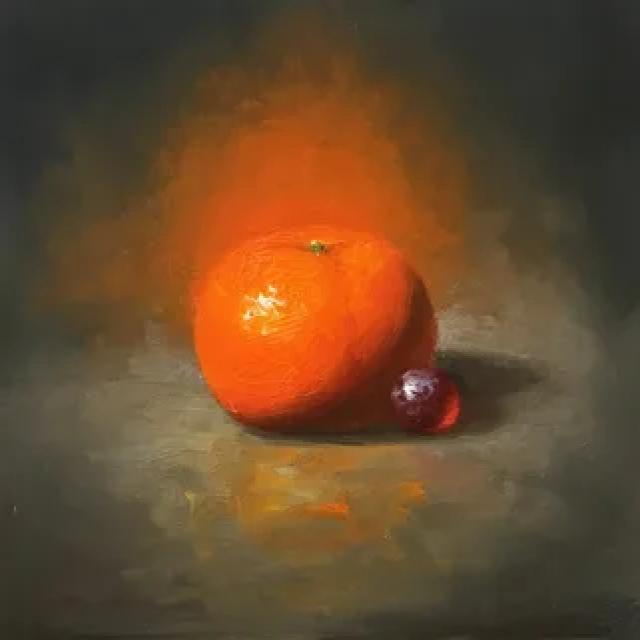orange: (181, 220, 468, 437)
